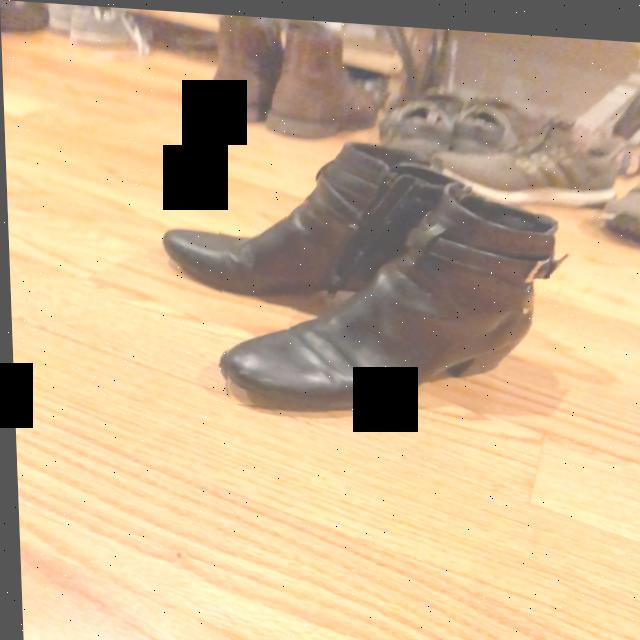shoe: (222, 197, 547, 404)
